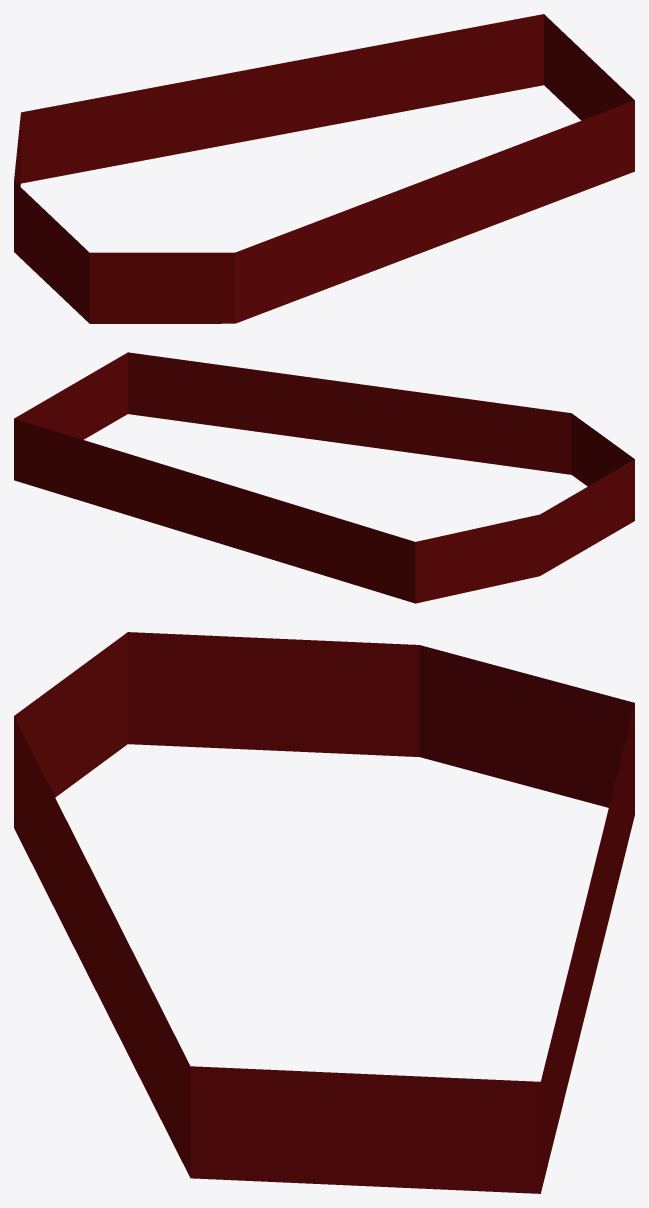
Rendered from original-42.obj.
The picture shows the model from 3 angles, top to bottom: view 1: azimuth 30°, elevation 25°; view 2: azimuth 150°, elevation 25°; view 3: azimuth 270°, elevation 25°; orthographic projection. The views are drawn at different scales.
Visible parts, largest first — view 1: #ID313; view 2: #ID313; view 3: #ID313.
Part boxes in pixels (x1,y1,x2,y2): #ID313: (14,14,634,323); #ID313: (14,352,634,603); #ID313: (14,632,634,1193).
Bounding box in the file's own units: 0.4561 × 0.053 × 0.2661.
